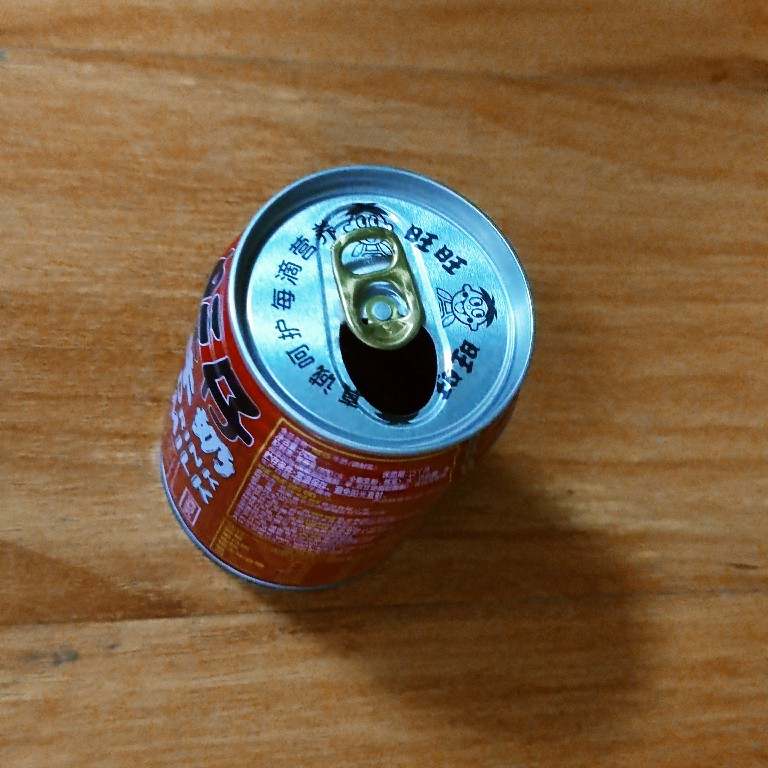can: (155, 161, 536, 601)
